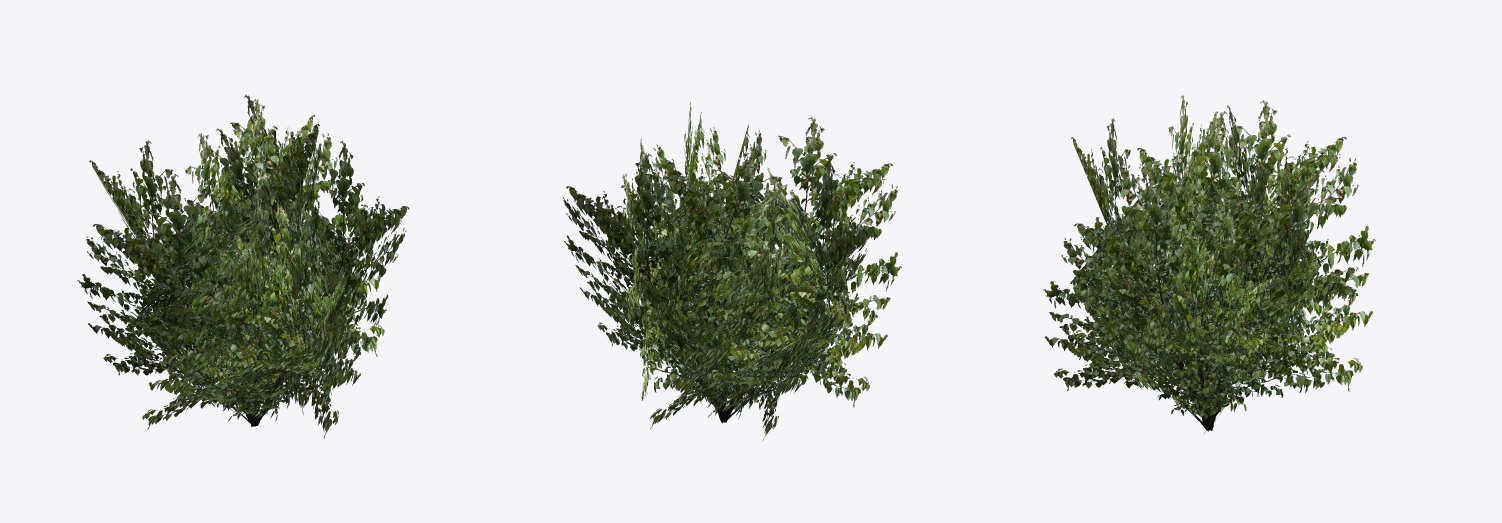
Rendered from Bush2.fbx.
3 views of the same model, side by side, from view 1: azimuth 30°, elevation 25°; view 2: azimuth 150°, elevation 25°; view 3: azimuth 270°, elevation 25° (orthographic). The views are drawn at different scales.
Visible parts, largest first — view 1: pPlane66; view 2: pPlane66; view 3: pPlane66.
Boxes of the visible parts, x1,y1,x2,y2 form: pPlane66: (77, 94, 409, 438); pPlane66: (563, 102, 901, 440); pPlane66: (1043, 95, 1375, 433).
Bounding box in the file's own units: 240 × 246 × 253.
